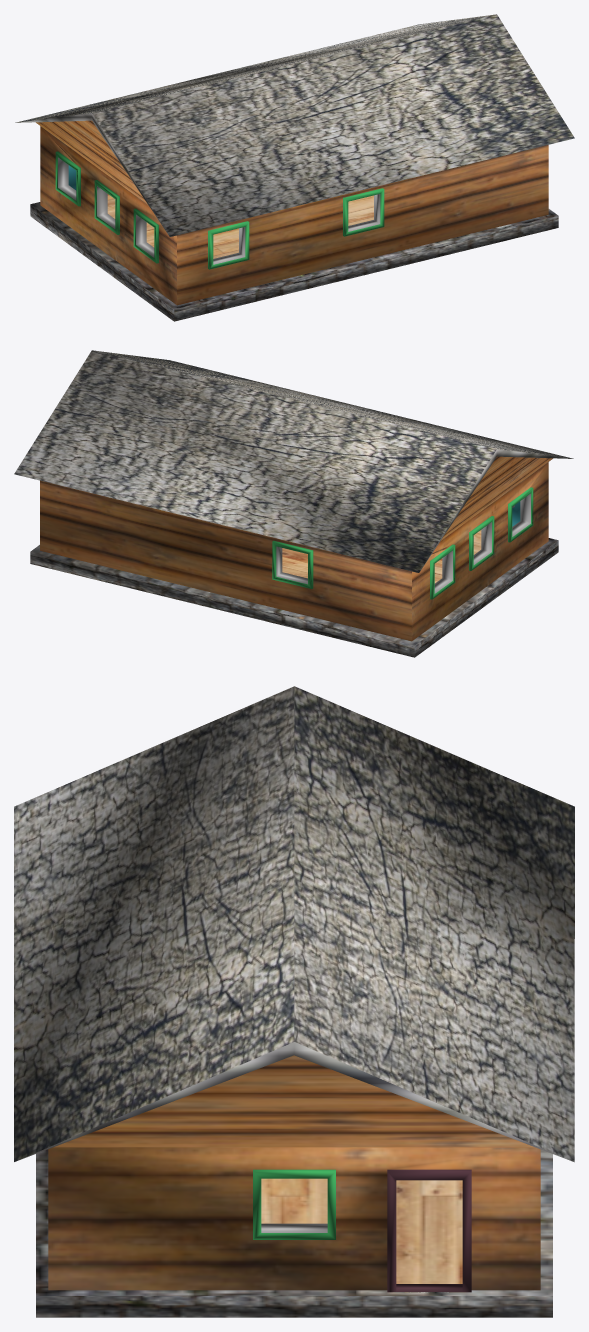
The picture shows the model from 3 angles, top to bottom: view 1: azimuth 30°, elevation 25°; view 2: azimuth 150°, elevation 25°; view 3: azimuth 270°, elevation 25°; orthographic projection. The views are drawn at different scales.
Parts seen in each view (by area): view 1: 0roof_Cube.000, 0frontwall_Cube.000, 0base_Cube.000, 0floor_Plane.000; view 2: 0roof_Cube.000, 0frontwall_Cube.000, 0base_Cube.000, 0floor_Plane.000; view 3: 0roof_Cube.000, 0frontwall_Cube.000, 0base_Cube.000, 0floor_Plane.000.
Part boxes in pixels (box(x1,y1,x2,y2)): 0roof_Cube.000: box(15, 14, 574, 236); 0frontwall_Cube.000: box(40, 126, 548, 305); 0base_Cube.000: box(30, 202, 558, 321); 0floor_Plane.000: box(107, 194, 373, 258); 0roof_Cube.000: box(14, 350, 573, 572); 0frontwall_Cube.000: box(40, 462, 548, 641); 0base_Cube.000: box(30, 538, 558, 657); 0floor_Plane.000: box(282, 530, 481, 583); 0roof_Cube.000: box(14, 686, 574, 1162); 0frontwall_Cube.000: box(48, 1147, 540, 1292); 0base_Cube.000: box(36, 1149, 552, 1317); 0floor_Plane.000: box(261, 1178, 462, 1283).
Bounding box in the file's own units: 12 × 4.48 × 8.
